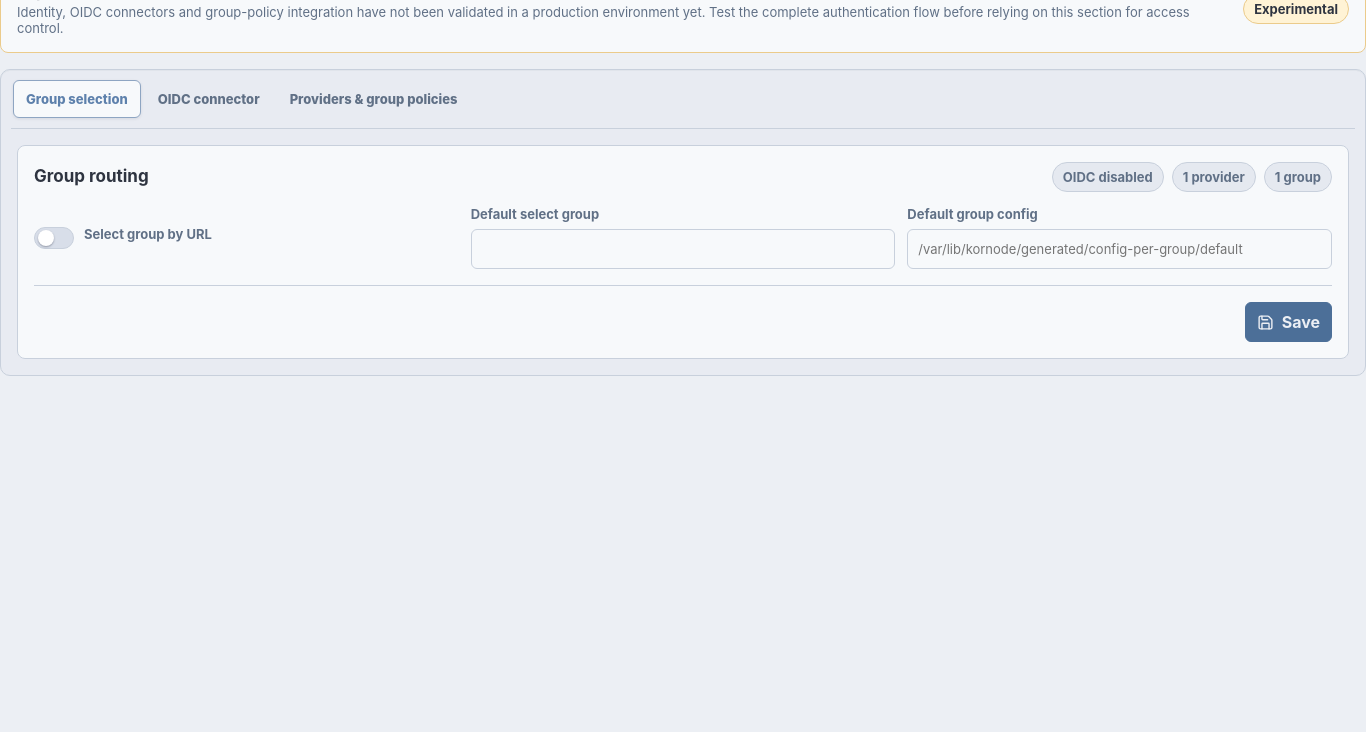
Test case: offers inherit/yes/no group booleans and loads existing null/false without coercion
Click the tab "Providers & group policies" at [374, 99], box [277,80,470,118]
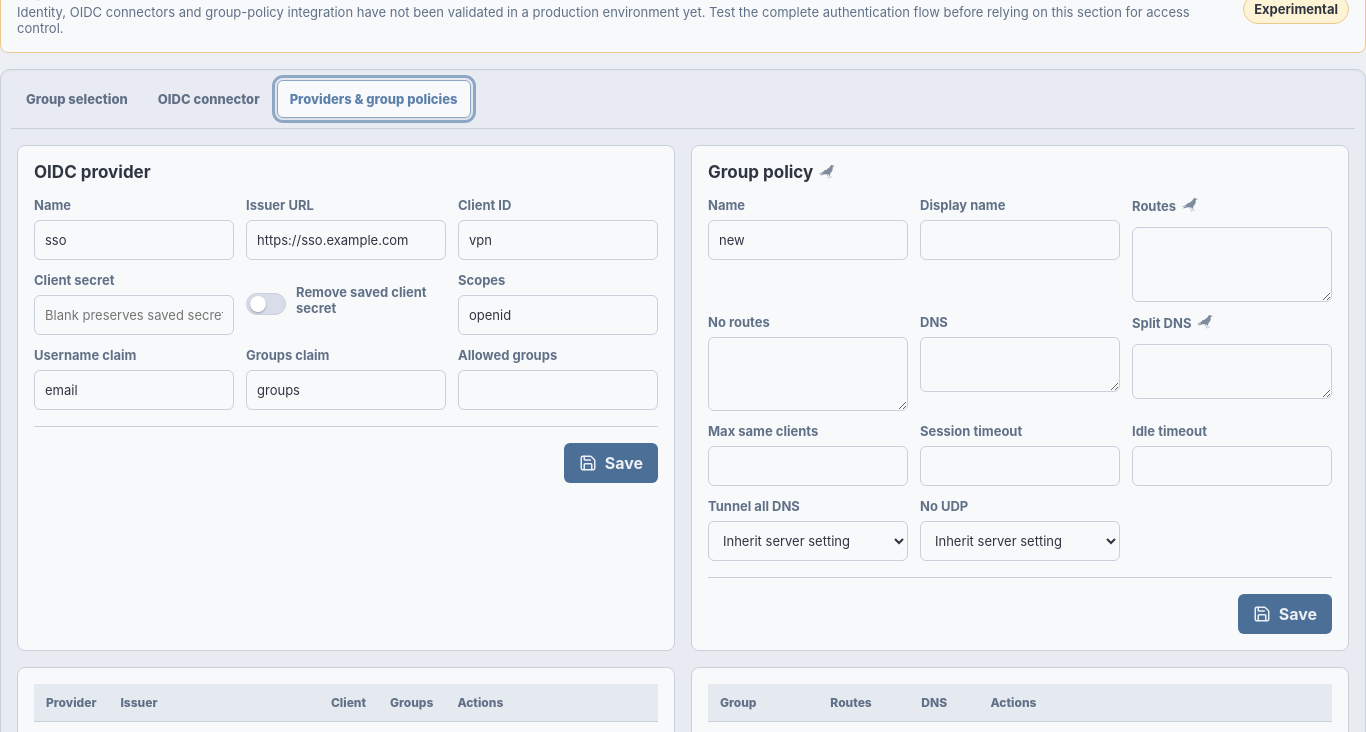
Result: the dropdown labelled "Tunnel all DNS" shows "Inherit server setting"
Result: the dropdown labelled "No UDP" shows "Inherit server setting" at [920,521,1120,561]
Select "Yes" in the dropdown labelled "Tunnel all DNS" at [808, 541], box [708,521,908,561]
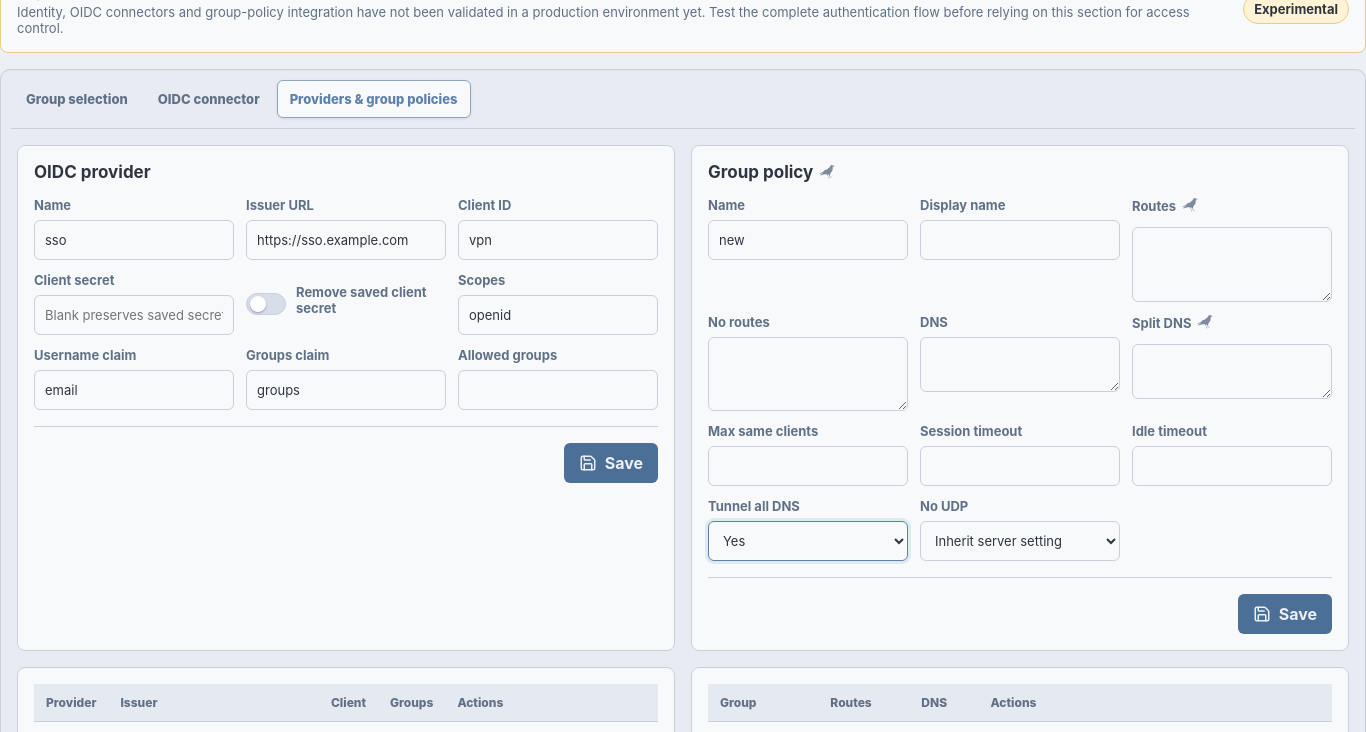
Select "No" in the dropdown labelled "Tunnel all DNS" at [808, 541], box [708,521,908,561]
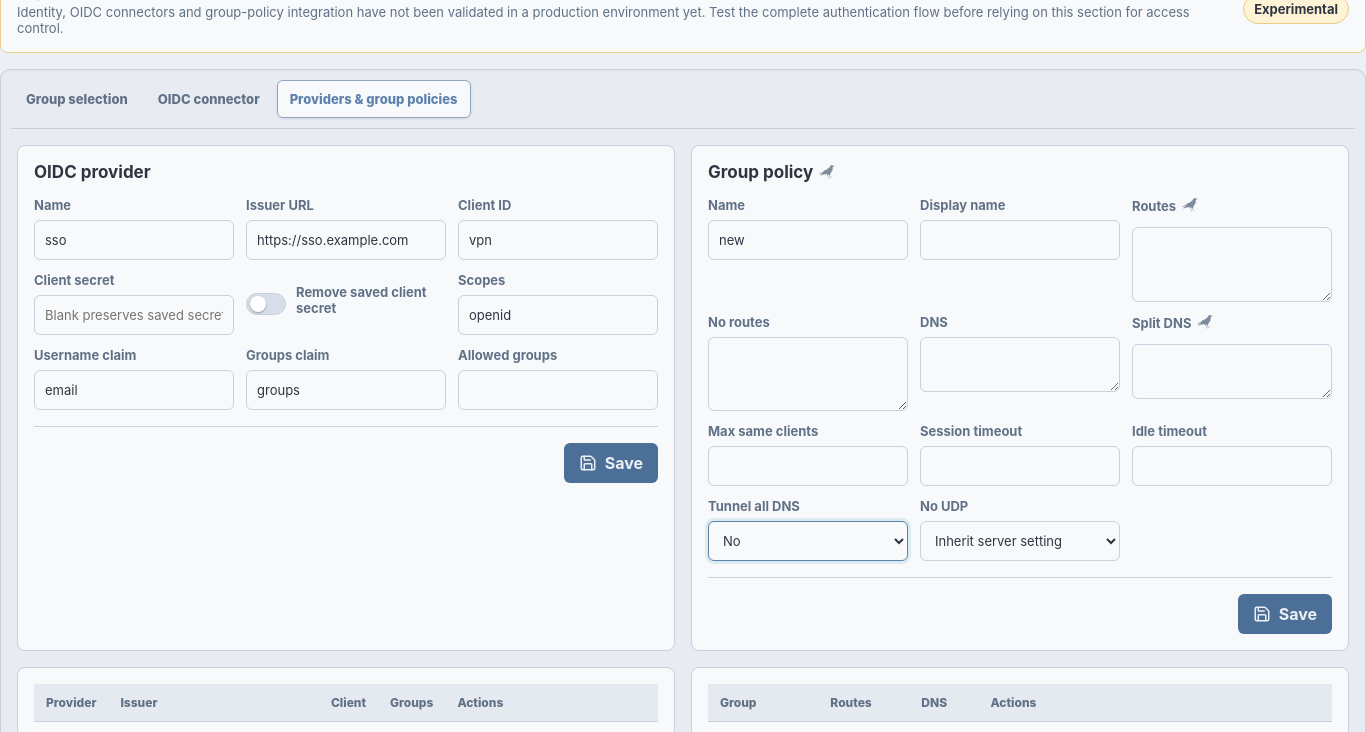
Select "Inherit server setting" in the dropdown labelled "Tunnel all DNS" at [808, 541], box [708,521,908,561]
(page scrolled)
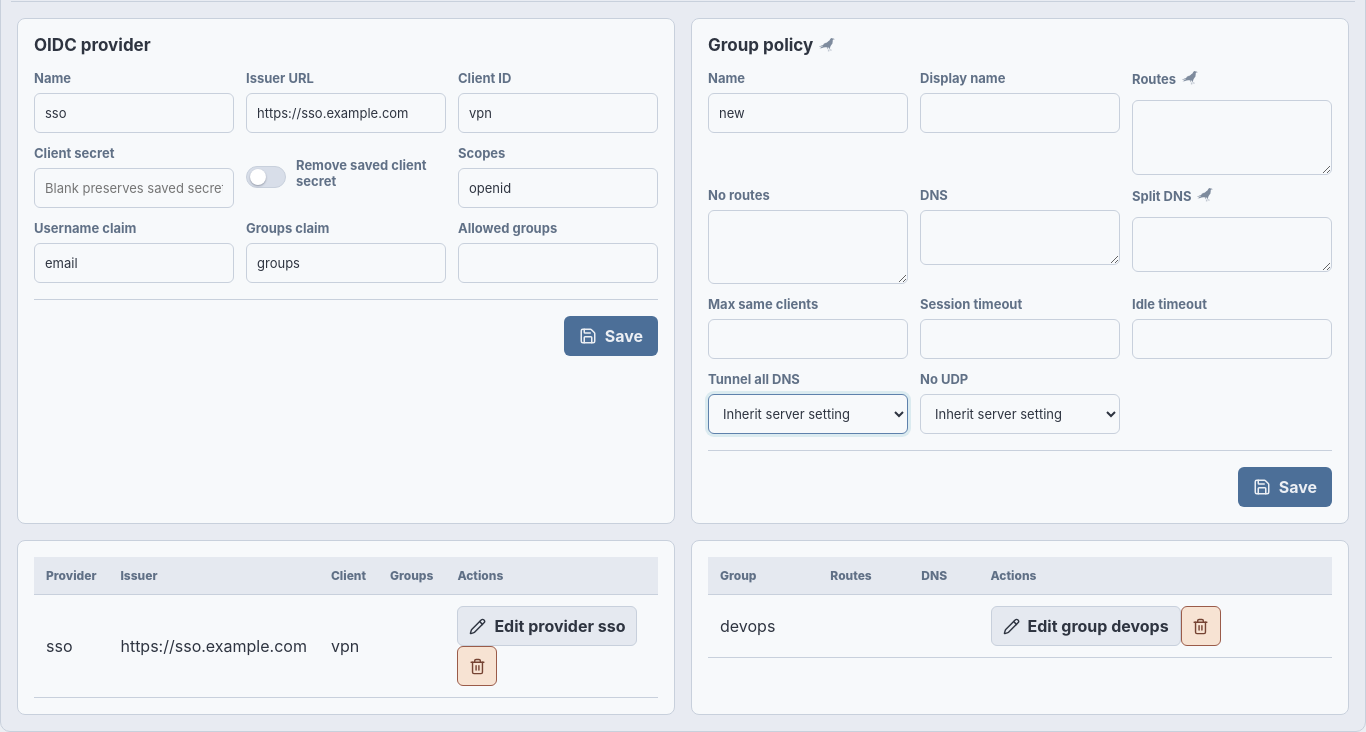
Click the button "Edit group devops" at [1086, 626], box [990,606,1181,646]
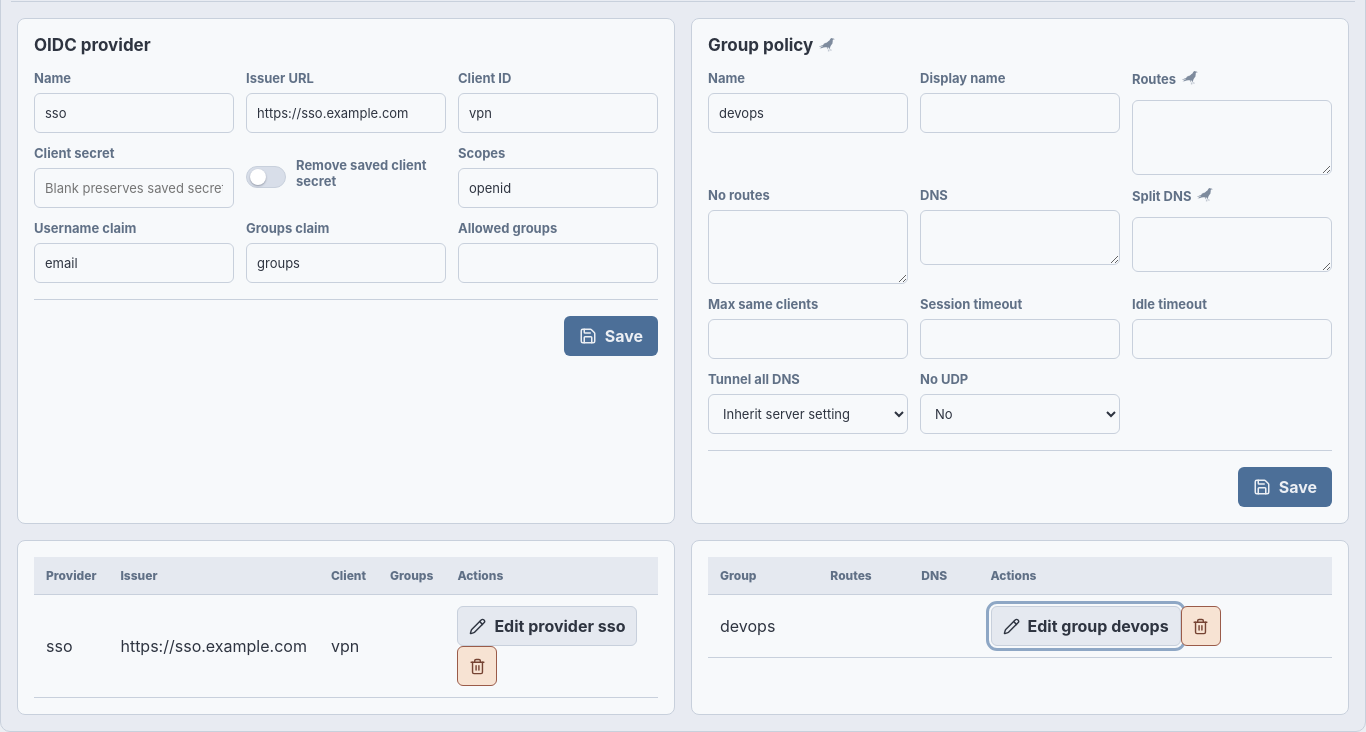
Result: the dropdown labelled "No UDP" shows "No" at [920,394,1120,434]
